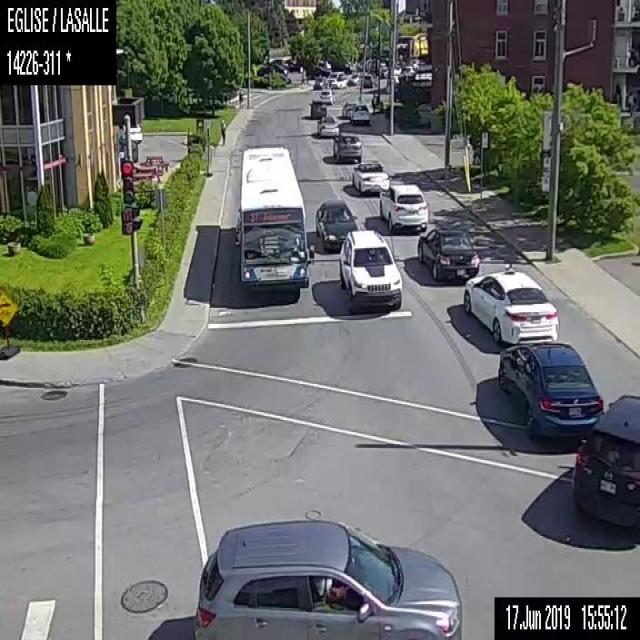bus: (237, 145, 308, 288)
pedestrian: (219, 116, 226, 144)
vehicle: (190, 517, 460, 639), (497, 337, 604, 442), (572, 391, 639, 532), (462, 260, 560, 352), (336, 228, 401, 312), (413, 224, 478, 284), (378, 180, 428, 230), (313, 197, 357, 253), (350, 158, 388, 193), (331, 132, 362, 163), (316, 114, 338, 136), (349, 103, 370, 125), (306, 97, 327, 118), (120, 124, 141, 144), (340, 100, 358, 116), (318, 86, 334, 104), (327, 70, 344, 86), (312, 75, 327, 90), (331, 75, 347, 88), (348, 72, 361, 85)
